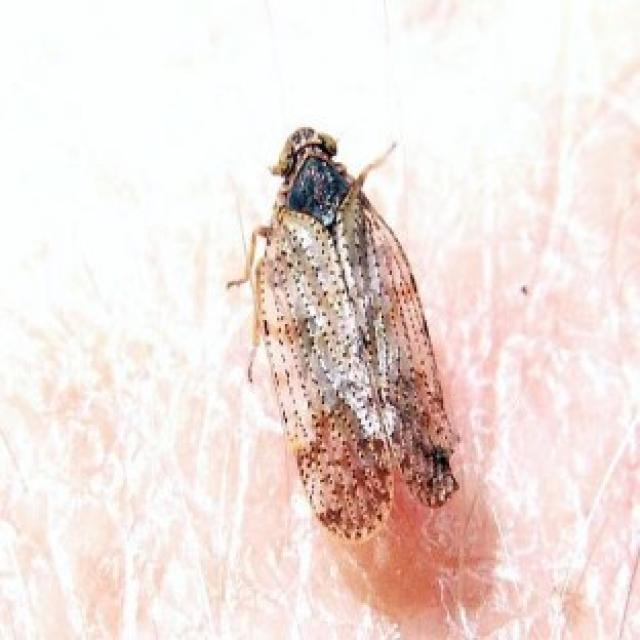brown plant hopper: (228, 127, 457, 537)
